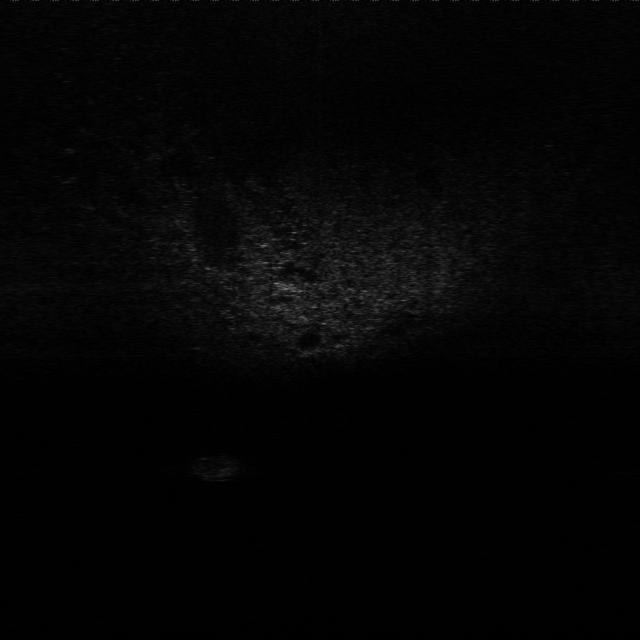circle cage: (196, 447, 246, 480)
